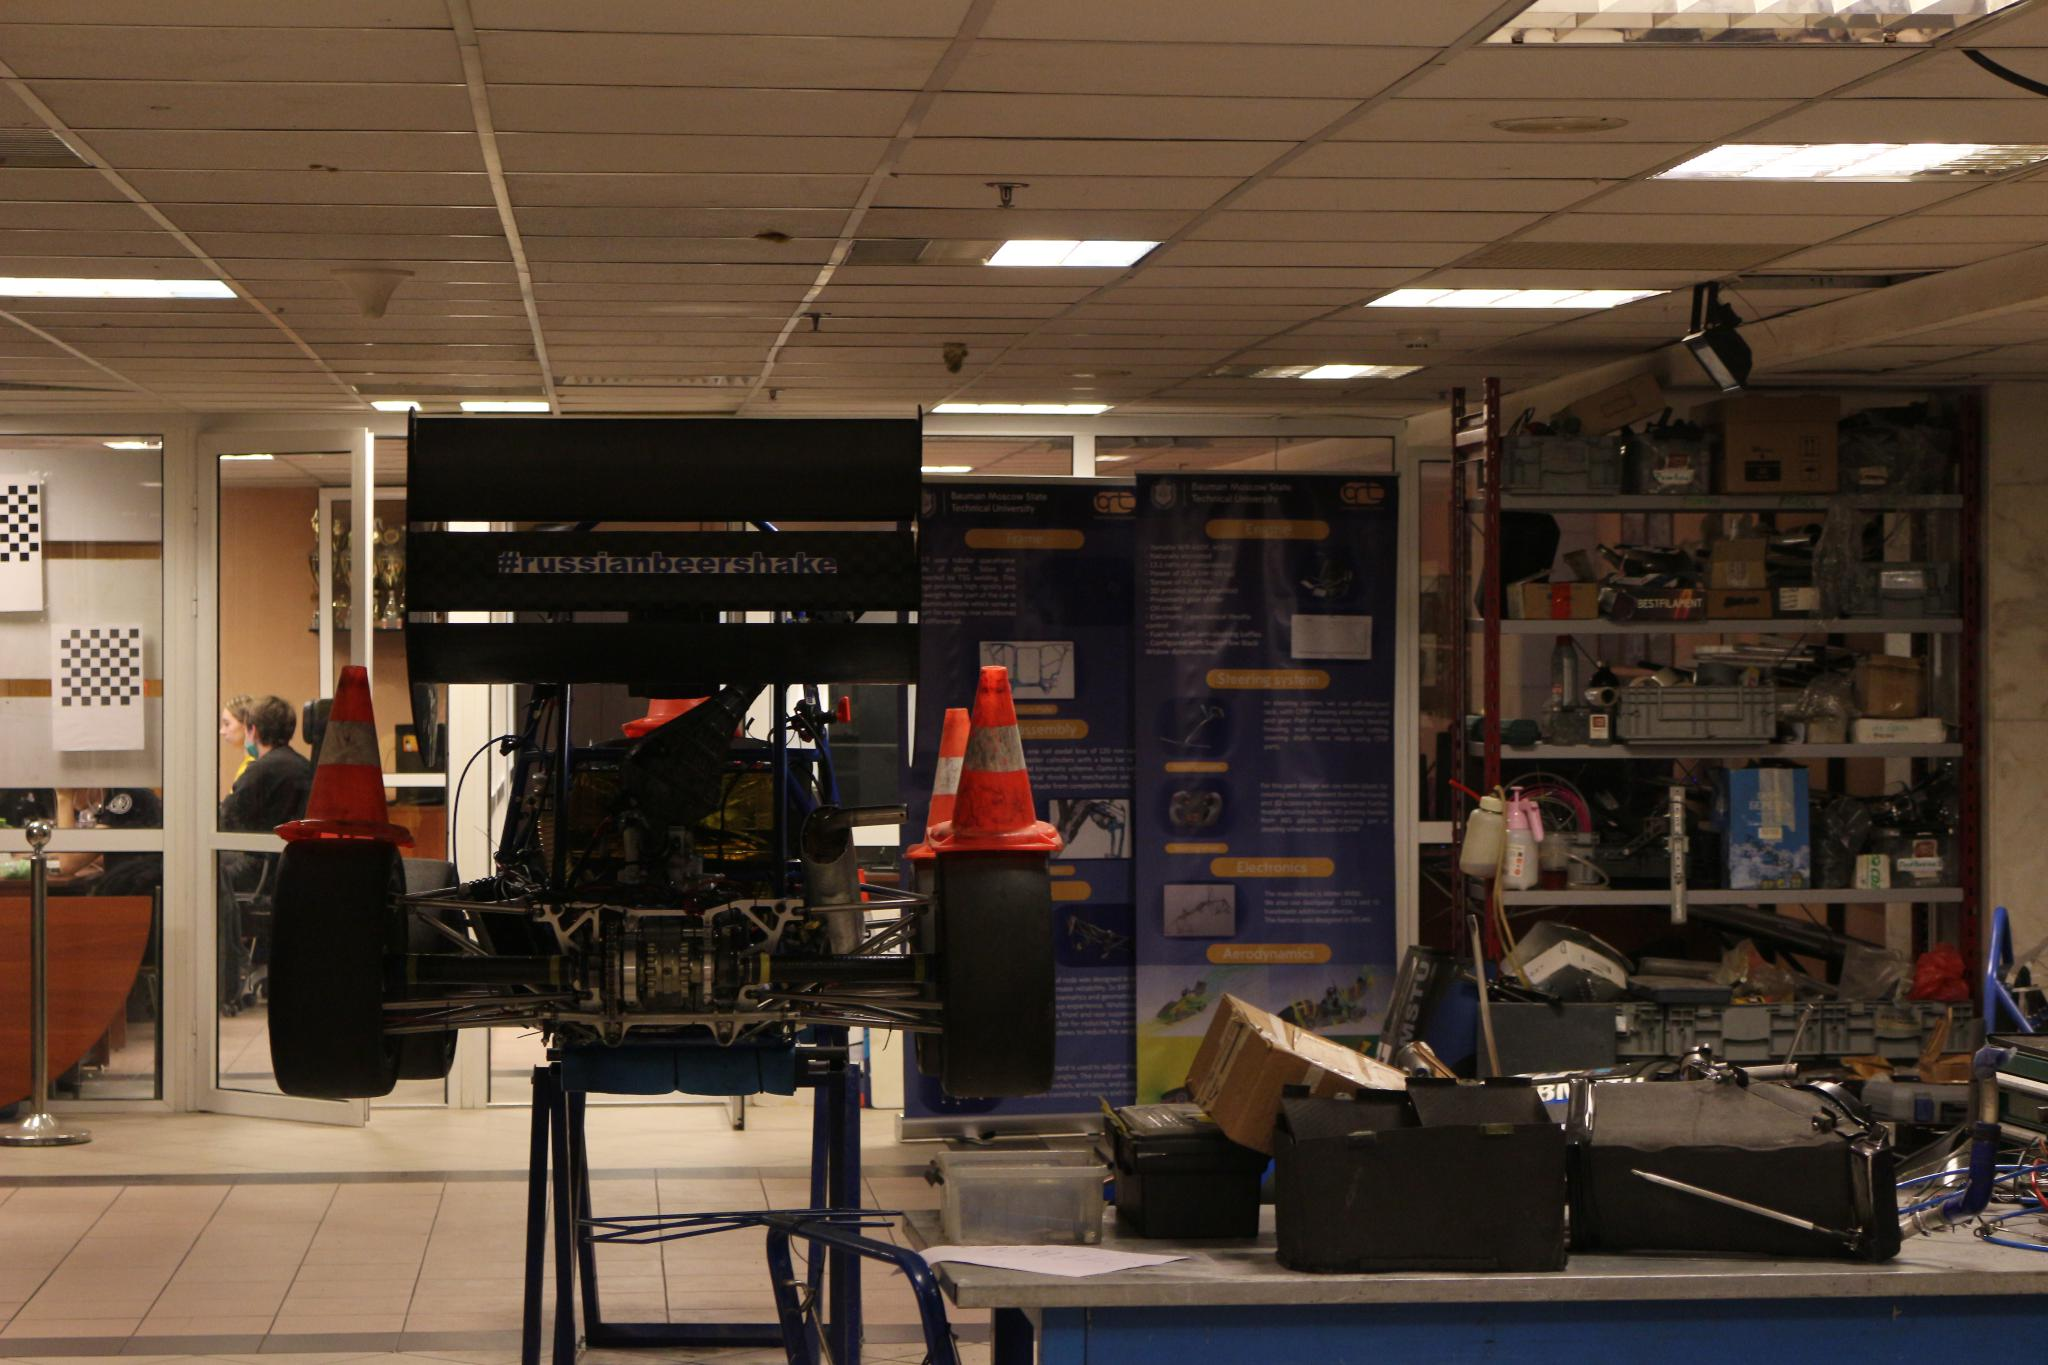Orange_Cone: (268, 657, 417, 855), (952, 658, 1069, 865), (917, 698, 997, 867)
